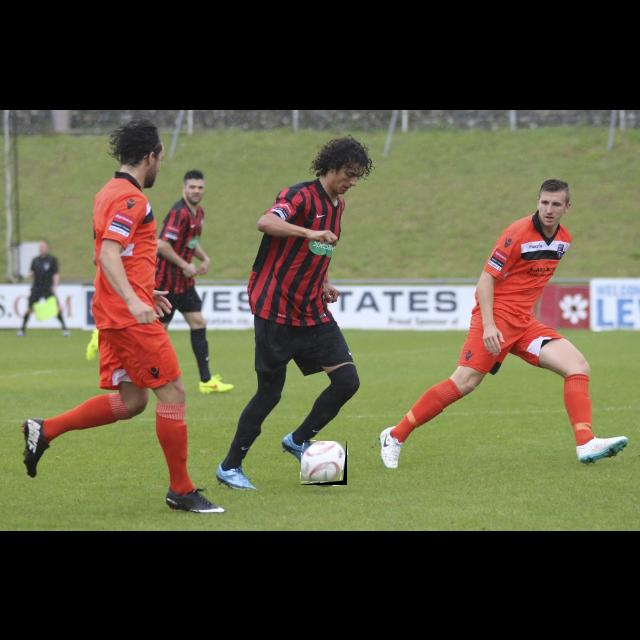Football: (301, 441, 347, 485)
